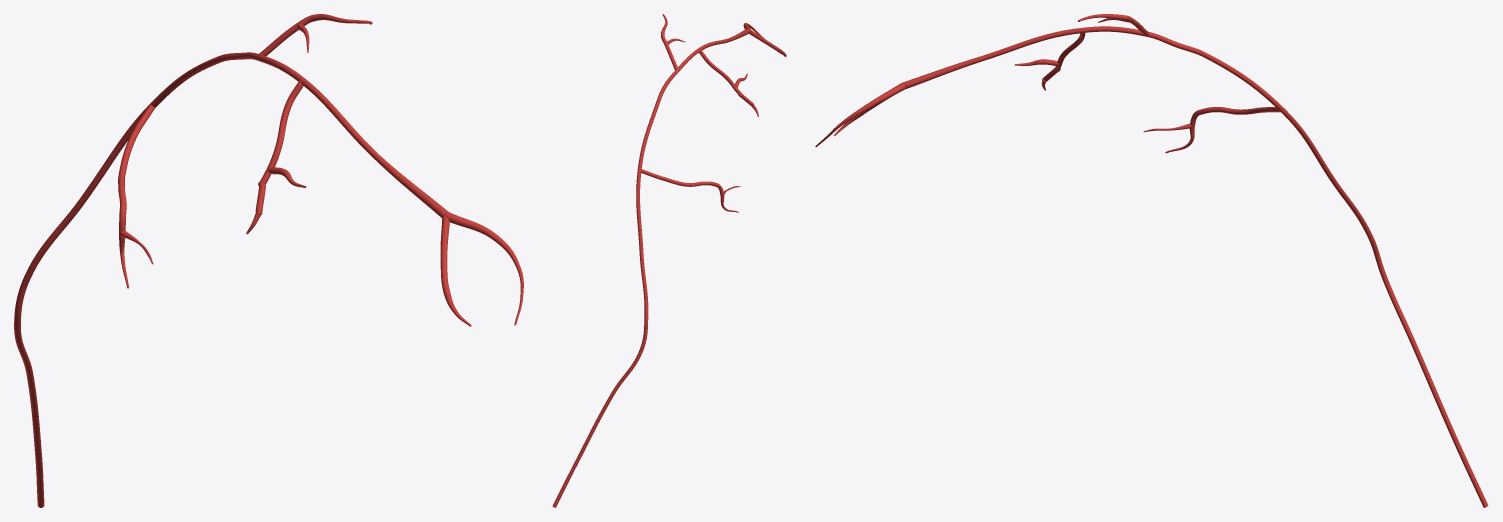
3 renders of one model, left to right at view 1: azimuth 30°, elevation 25°; view 2: azimuth 150°, elevation 25°; view 3: azimuth 270°, elevation 25°, orthographic. The views are drawn at different scales.
Visible parts, largest first — view 1: 右侧枕动脉; view 2: 右侧枕动脉; view 3: 右侧枕动脉.
Boxes of the visible parts, x1,y1,x2,y2 form: 右侧枕动脉: (14,14,523,507); 右侧枕动脉: (552,14,786,507); 右侧枕动脉: (815,14,1488,507).
Size of the model in its own units: 0.0474 by 0.1576 by 0.1869.
